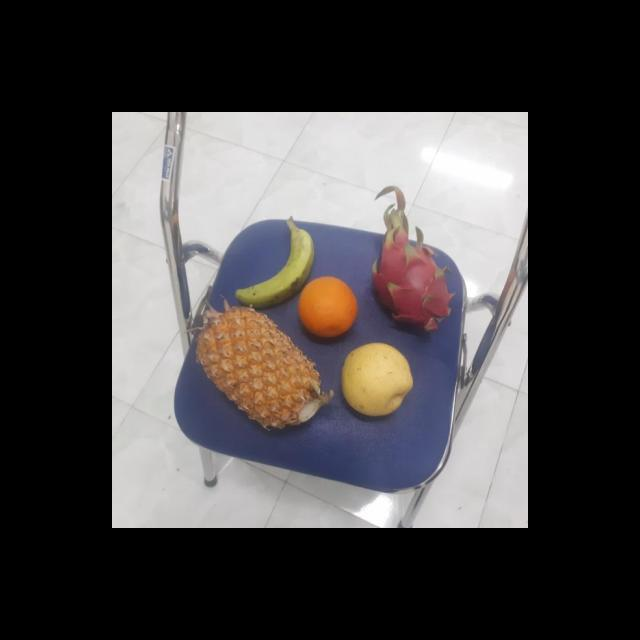banana: (230, 222, 314, 304)
orange: (294, 277, 360, 340)
pear: (335, 342, 415, 416)
pineapple: (193, 305, 328, 431)
pitaya: (369, 237, 452, 338)
